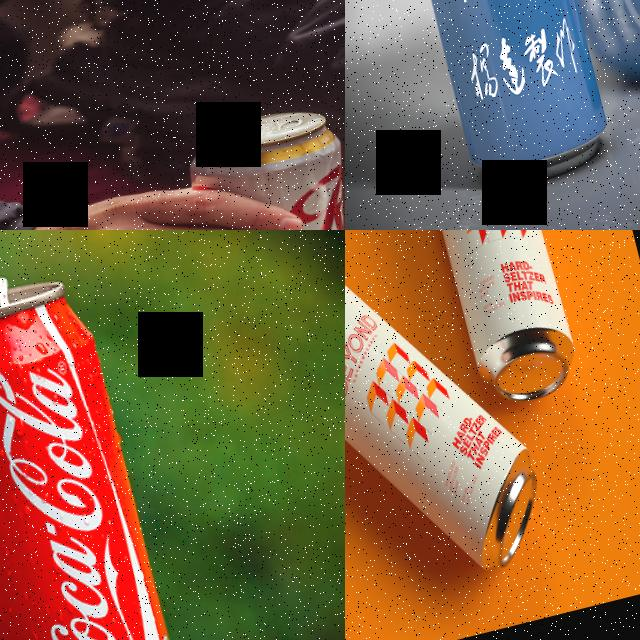can: (345, 233, 556, 608), (0, 267, 190, 640), (350, 0, 620, 204), (399, 230, 584, 413), (172, 94, 345, 230)
